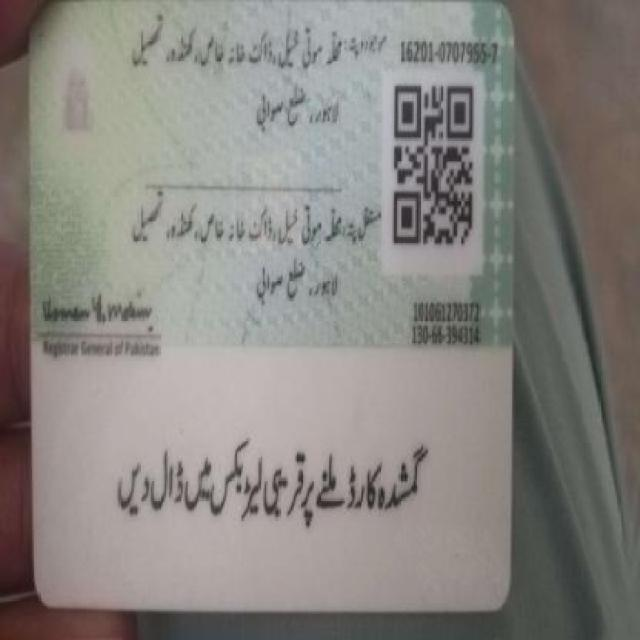Back: (17, 3, 526, 626)
